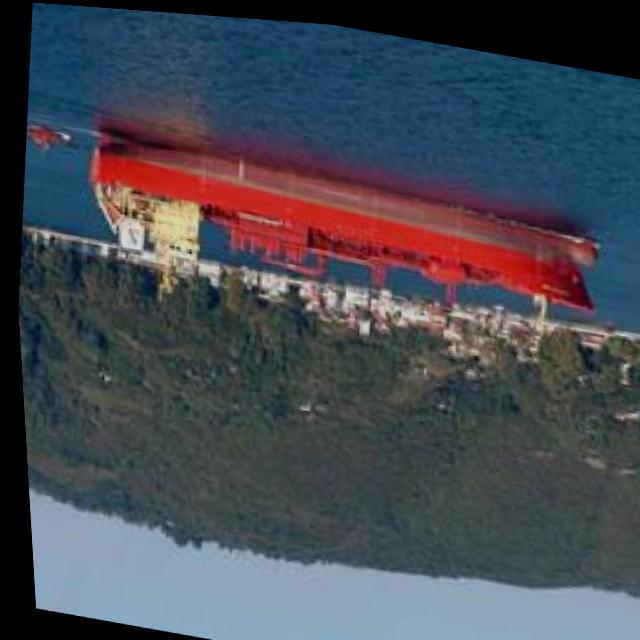ship2: (89, 129, 598, 315)
